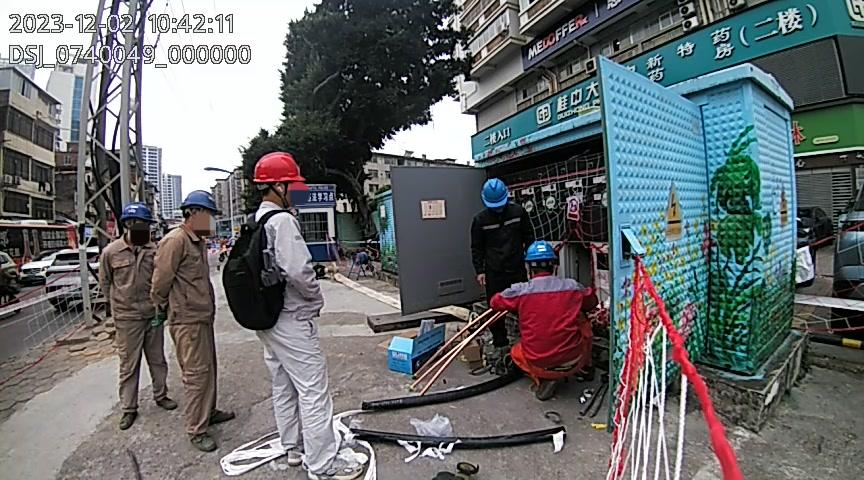halt: (255, 155, 308, 209), (182, 192, 223, 238), (525, 243, 562, 280), (121, 204, 157, 241), (483, 181, 513, 212)
inear: (270, 183, 295, 207), (125, 219, 143, 246), (189, 209, 207, 230)
